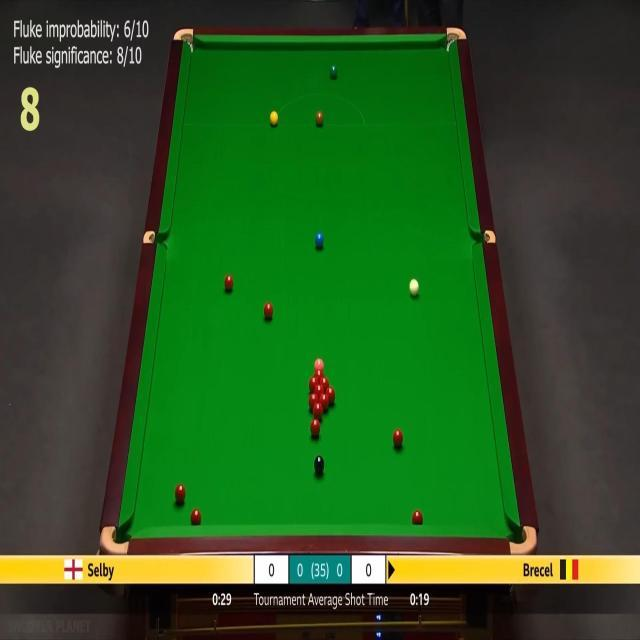Ball: (176, 484, 186, 504), (318, 394, 329, 412), (310, 418, 320, 437), (409, 278, 419, 296), (314, 456, 324, 474), (308, 393, 318, 411), (264, 302, 274, 319), (393, 429, 403, 446), (191, 508, 201, 525), (325, 387, 335, 404), (312, 403, 322, 419), (412, 510, 423, 524), (308, 377, 318, 392), (314, 369, 324, 384), (224, 274, 233, 290), (315, 232, 324, 248), (314, 384, 324, 398), (319, 378, 329, 391), (270, 110, 278, 126), (314, 358, 324, 370), (330, 64, 338, 78), (316, 111, 324, 125)
